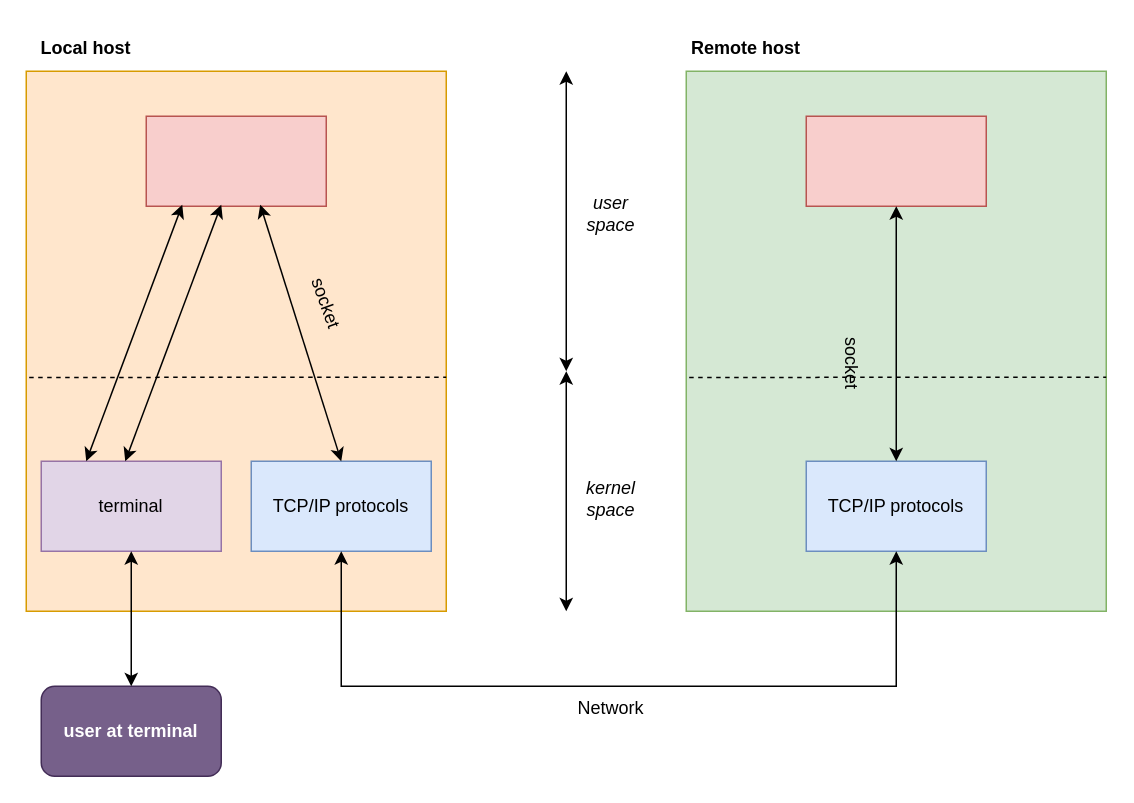
Some shapes in this 1134 by 803 pixel diagram are drawn without their labels. Here are the shapes that lost their labels. From the top down, the centre of each, then its label:
At (x=235, y=160): "client program".
At (x=895, y=160): "terminal-oriented program".
